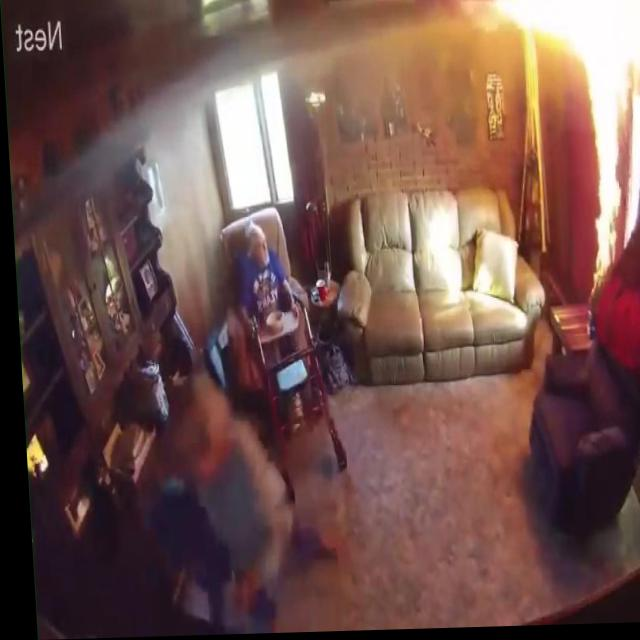fire: (575, 0, 634, 281), (488, 0, 640, 76)
